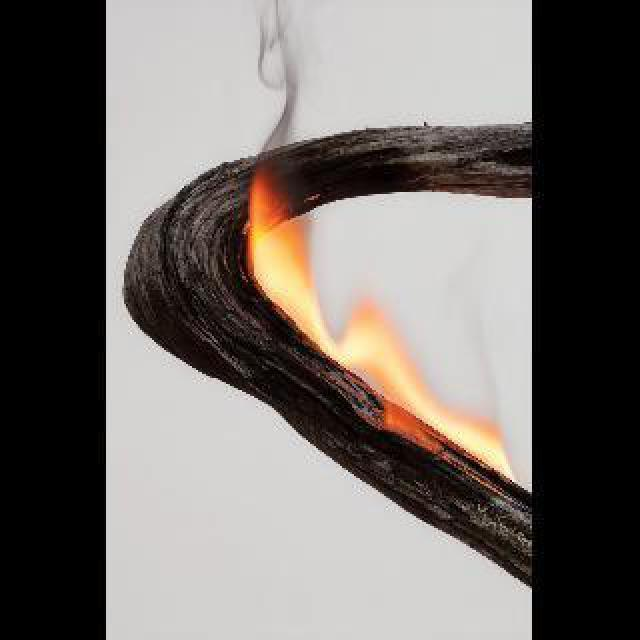Fire: (236, 160, 500, 556)
Smoke: (240, 7, 317, 194)
